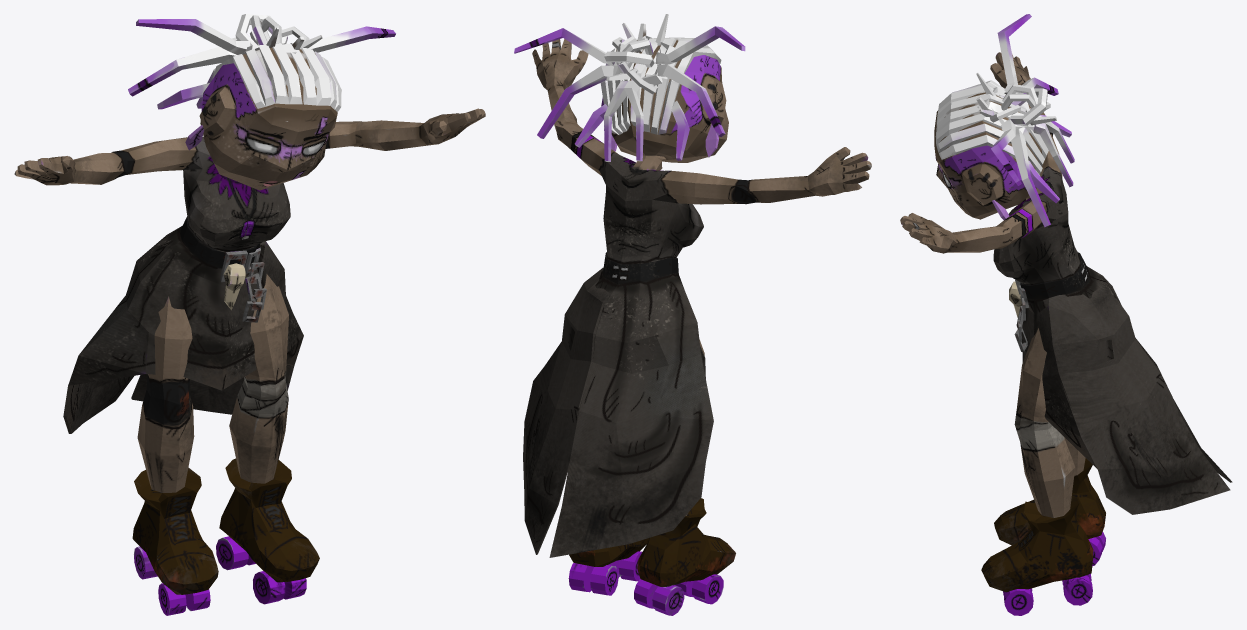
File: bruja_000109.obj
The picture shows the model from 3 angles, left to right: view 1: azimuth 30°, elevation 25°; view 2: azimuth 150°, elevation 25°; view 3: azimuth 270°, elevation 25°; orthographic projection. The views are drawn at different scales.
Parts seen in each view (by area): view 1: Bruja_Plane.001; view 2: Bruja_Plane.001; view 3: Bruja_Plane.001.
Part boxes in pixels (<box>): Bruja_Plane.001: <box>14,14,485,615</box>; Bruja_Plane.001: <box>514,14,871,615</box>; Bruja_Plane.001: <box>900,14,1232,615</box>.
Bounding box in the file's own units: 11.83 × 16.65 × 9.35.
